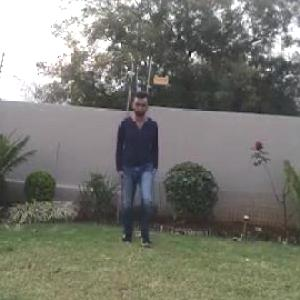follow: (119, 84, 174, 260)
